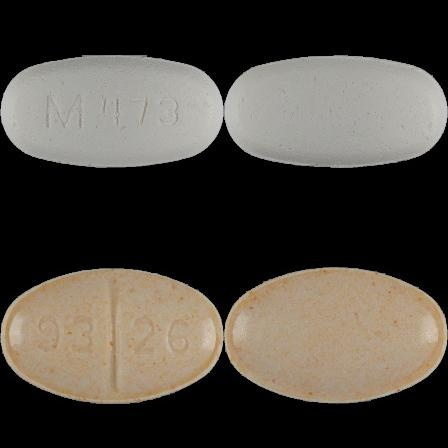53808-0831: (0, 0, 224, 224)
